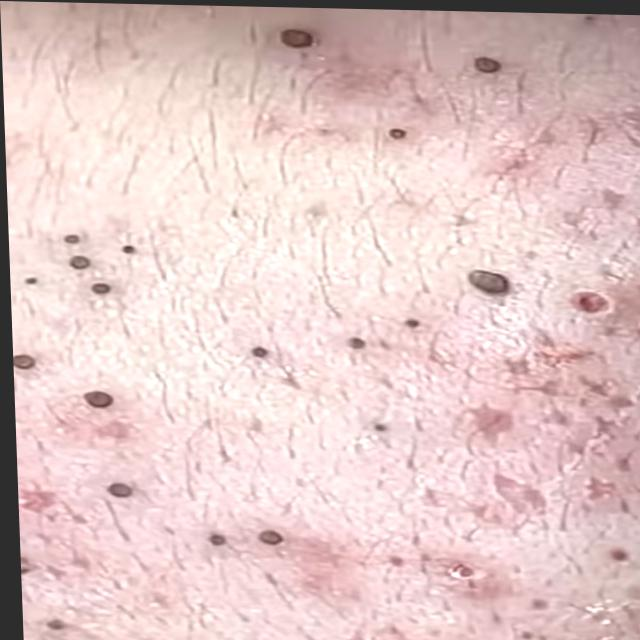dark spot: (440, 254, 519, 297), (89, 474, 146, 510), (74, 378, 122, 417), (266, 19, 321, 52), (468, 44, 519, 73), (235, 337, 282, 364), (245, 520, 288, 549), (81, 281, 130, 306), (53, 247, 104, 270), (10, 346, 49, 374), (380, 116, 421, 140), (195, 525, 231, 551), (109, 241, 146, 258), (58, 227, 88, 247), (340, 331, 371, 350)
